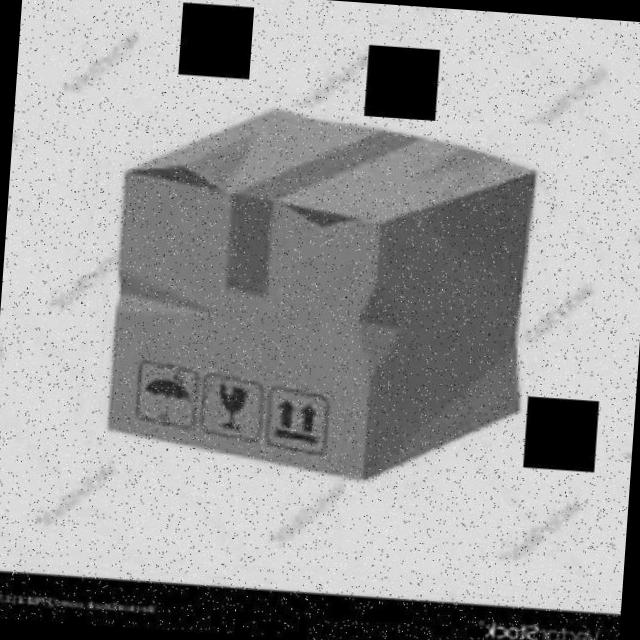box: (95, 90, 550, 501)
